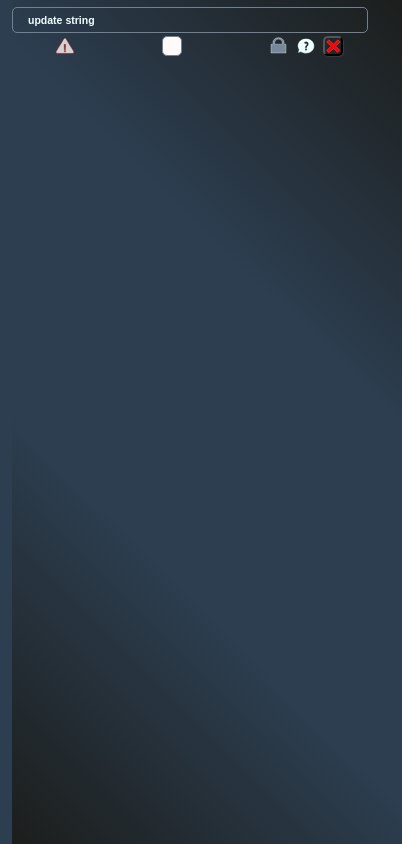
Scenario: Check TodoItemMobile Component › render child ModalPopup
Click the button with class "info".
click(306, 46)  # box [296, 36, 316, 56]
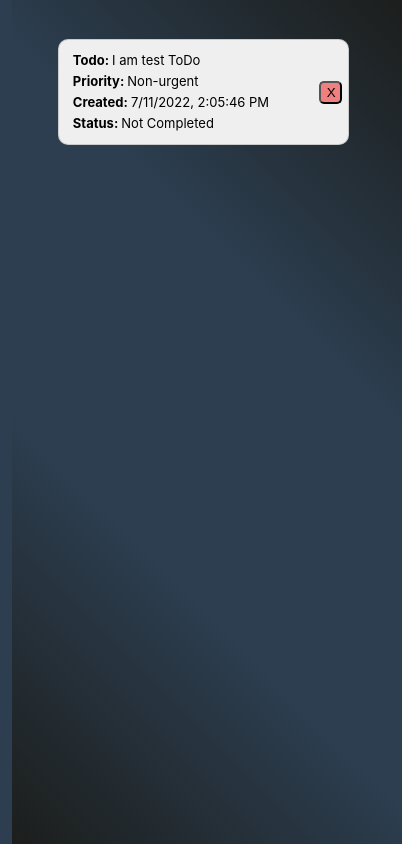
Expected: the element that starts with "Todo:" is shown, [58, 39, 349, 145]
